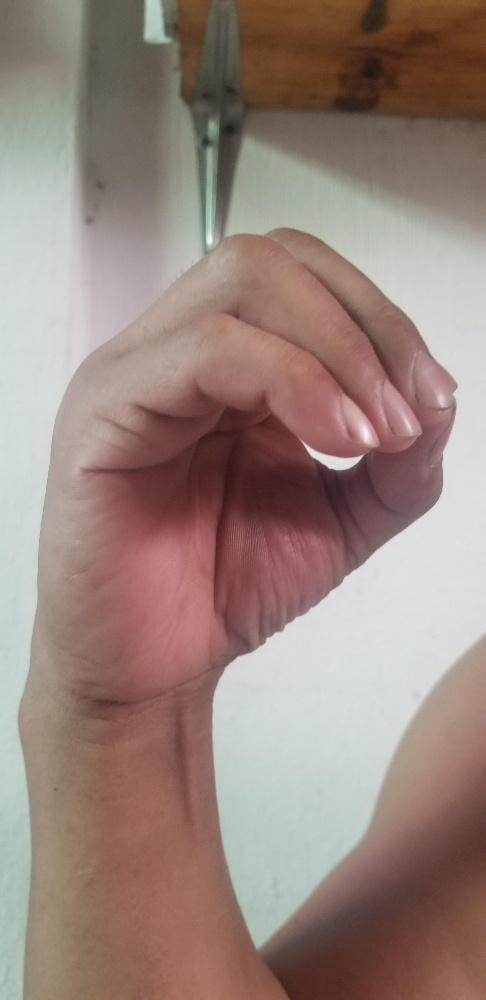o: (36, 224, 460, 685)
